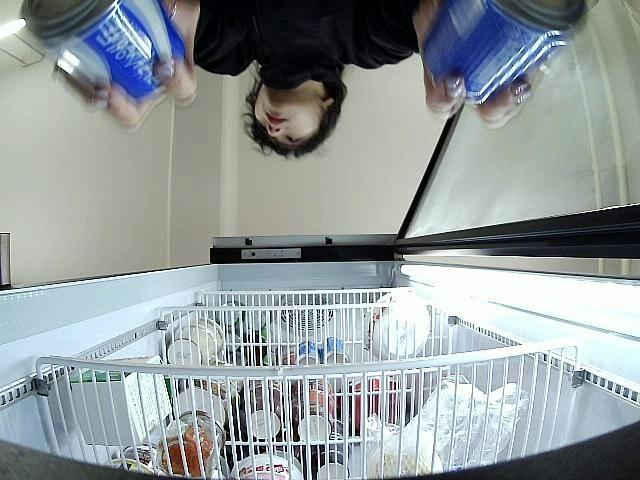13_pocariSweat: (422, 0, 586, 107), (16, 0, 186, 99)
